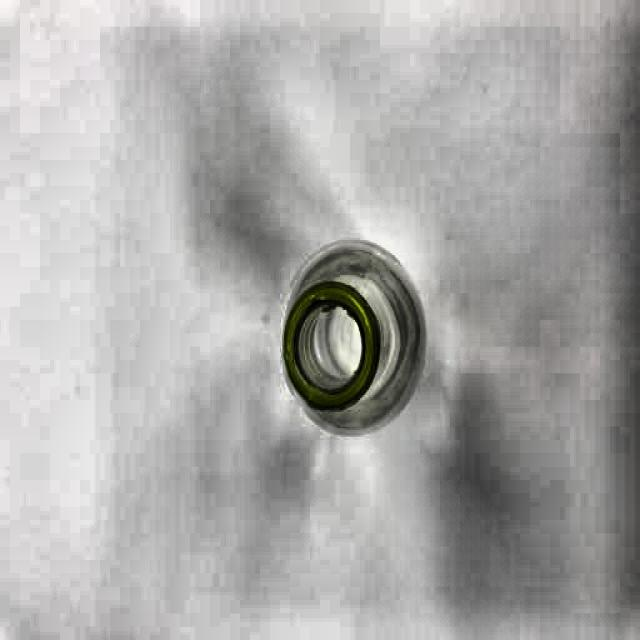glass: (278, 230, 435, 434)
